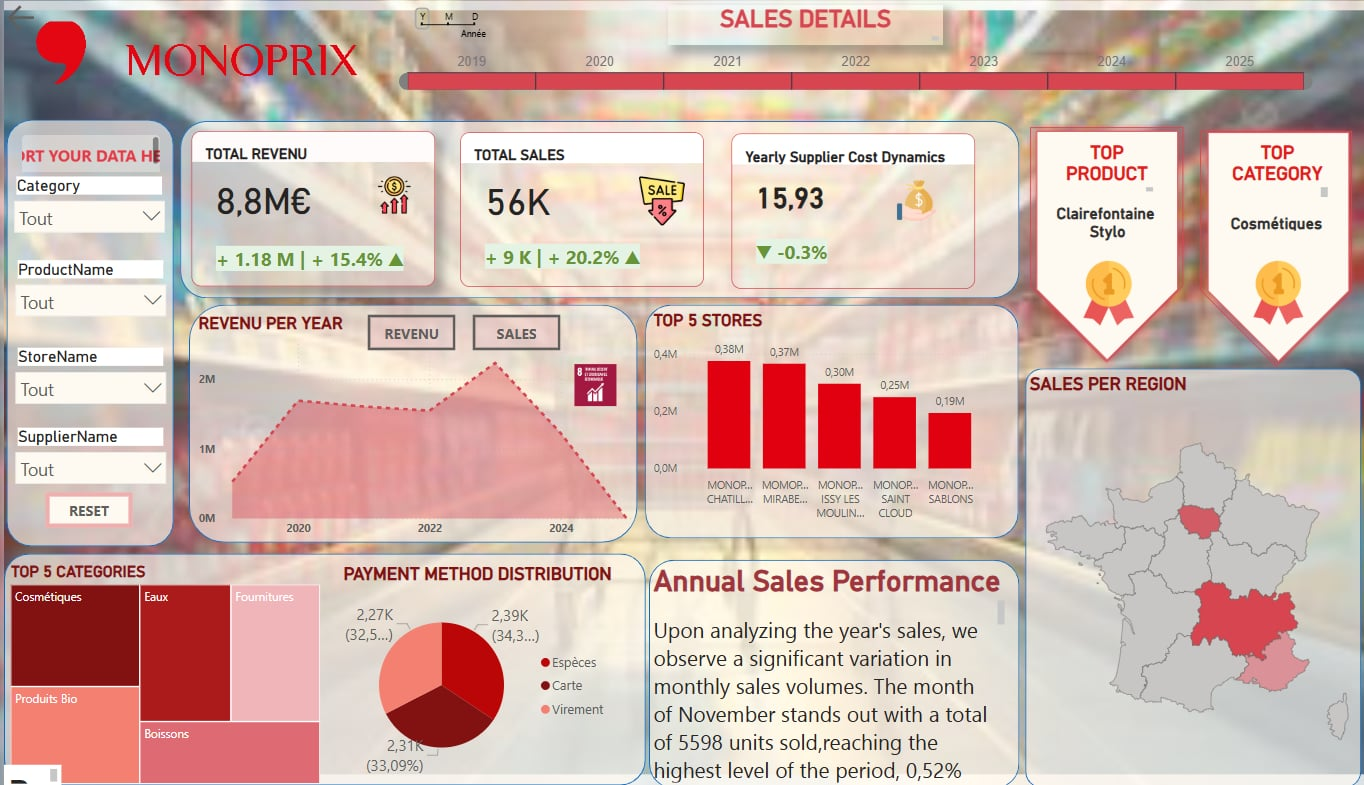

The page's visual inventory and layout, read from the dashboard file:
{"tool":"powerbi","page":{"name":"FINALCEO","canvas":[1560,900],"ordinal":1},"visuals":[{"type":"image","box":[14.8,18.1,407,80.7],"z":0},{"type":"shape","box":[3.3,135.1,191.1,487.7],"z":1000},{"type":"shape","box":[201,136.8,949,202.7],"z":2000},{"type":"shape","box":[0,631,779.3,265.3],"z":3000},{"type":"shape","box":[1166.5,420.1,383.9,479.5],"z":4000},{"type":"shape","box":[787.6,634.4,362.5,262],"z":5000},{"type":"shape","box":[210.9,347.7,512.4,271.9],"z":6000},{"type":"slicer","fields":{"Values":["Dim_Products.Category"]},"box":[1.5,195.7,192.6,123.8],"z":7000},{"type":"slicer","fields":{"Values":["Dim_Products.ProductName"]},"box":[3.1,291.9,192.6,96.3],"z":8000},{"type":"slicer","fields":{"Values":["Dim_Store.StoreName"]},"box":[3.1,391.3,192.6,94.8],"z":9000},{"type":"areaChart","title":"REVENU PER YEAR","fields":{"Y":["Sum(Dim_FactSales.Amount)"],"Category":["Dim_Dates.Annee"]},"box":[217.1,357.7,513.6,264.4],"z":10000},{"type":"pieChart","title":"PAYMENT METHOD DISTRIBUTION","fields":{"Y":["CountNonNull(Dim_FactSales.Amount)"],"Category":["Dim_PaymentMethod.PaymentMethod"]},"box":[799.1,640.9,331.2,255.4],"z":11000},{"type":"Timeline1447991079100","fields":{"Time":["Dim_Dates.Date"]},"box":[446.5,0,1056.2,115.3],"z":12000},{"type":"image","box":[1015,200.2,58.1,56.6],"z":13000},{"type":"textbox","title":"SALES DETAILS","box":[757.9,4.9,314.7,46.1],"z":15000},{"type":"shape","box":[723.3,344.4,426.7,266.9],"z":16000},{"type":"treemap","title":"TOP 5 CATEGORIES","fields":{"Group":["Dim_Products.Category"],"Values":["Sum(Dim_FactSales.Quantity)"]},"box":[51.1,636,678.8,258.7],"z":17000},{"type":"shape","box":[1160,131.8,201,294.9],"z":18000},{"type":"cardVisual","title":"TOTAL REVENU","fields":{"Data":["Dim_FactSales.chiffredaffaire"]},"box":[214,148.3,278.2,177.3],"z":19000},{"type":"cardVisual","title":"TOTAL SALES","fields":{"Data":["Sum(Dim_FactSales.Quantity)"]},"box":[521.2,149.8,278,177],"z":20000},{"type":"image","box":[420.4,195.7,52,52],"z":21000},{"type":"image","box":[713.8,195.7,74.9,65.7],"z":22000},{"type":"cardVisual","title":"Yearly Supplier Cost Dynamics","fields":{"Data":["Dim_FactSales.AveragesupplierPrice"]},"box":[831.5,151.3,278.2,177.3],"z":23000},{"type":"shape","box":[1166.5,135.1,187.8,288.3],"z":24000},{"type":"shape","box":[1354.4,135.1,199.4,294.9],"z":25000},{"type":"shape","box":[1362.6,136.8,187.8,288.3],"z":26000},{"type":"textbox","title":"TOP CATEGORY","box":[1392.3,159.8,125.2,69.2],"z":27000},{"type":"textbox","title":"TOP PRODUCT","box":[1202.8,159.8,115.3,62.6],"z":28000},{"type":"card","fields":{"Values":["Min(Dim_Products.ProductName)"]},"box":[1191.3,222.4,140.1,61],"z":29000},{"type":"card","fields":{"Values":["Min(Dim_Products.Category)"]},"box":[1379.1,240.6,151.6,26.4],"z":30000},{"type":"image","box":[1216,247.2,93.9,173],"z":31000},{"type":"image","box":[1409.3,247.6,93.2,172.7],"z":32000},{"type":"slicer","fields":{"Values":["Dim_Supplier.Name"]},"box":[3.1,483,192.6,186.5],"z":33000},{"type":"columnChart","title":"TOP 5 STORES","fields":{"Category":["Dim_Store.StoreName"],"Y":["Sum(Dim_FactSales.Amount)"]},"box":[736.5,354.2,400.4,247.2],"z":34000},{"type":"shapeMap","title":"SALES PER REGION","fields":{"Category":["Dim_Store.Personnalisé"]},"box":[1166.7,425,393.3,475],"z":35000},{"type":"actionButton","box":[47.5,561.3,100,40.7],"z":36000},{"type":"htmlContent443BE3AD55E043BF878BED274D3A6855","fields":{"content":["FactSupplierPayment.MovingFilterMessage"]},"box":[15,148.3,166.7,51.7],"z":37000},{"type":"actionButton","box":[416,358.4,100.3,40.5],"z":38000},{"type":"actionButton","box":[535.5,358.4,100.3,40.5],"z":39000},{"type":"image","box":[646.6,408.1,58.1,61.1],"z":40000},{"type":"actionButton","box":[0,0,100,40],"z":41000}]}

Visuals, with their boxes in screenshot pixels (x1, y1, x2, y2), scaled from the page's 1560x900 canvas onto the 1364x785 screenshot:
image: l=13, t=16, r=369, b=86
shape: l=3, t=118, r=170, b=543
shape: l=176, t=119, r=1006, b=296
shape: l=0, t=550, r=681, b=782
shape: l=1020, t=366, r=1356, b=784
shape: l=689, t=553, r=1006, b=782
shape: l=184, t=303, r=632, b=540
slicer - Dim_Products.Category: l=1, t=171, r=170, b=279
slicer - Dim_Products.ProductName: l=3, t=255, r=171, b=339
slicer - Dim_Store.StoreName: l=3, t=341, r=171, b=424
"REVENU PER YEAR" areaChart: l=190, t=312, r=639, b=543
"PAYMENT METHOD DISTRIBUTION" pieChart: l=699, t=559, r=988, b=782
Timeline1447991079100 - Dim_Dates.Date: l=390, t=0, r=1314, b=101
image: l=887, t=175, r=938, b=224
"SALES DETAILS" textbox: l=663, t=4, r=938, b=44
shape: l=632, t=300, r=1006, b=533
"TOP 5 CATEGORIES" treemap: l=45, t=555, r=638, b=780
shape: l=1014, t=115, r=1190, b=372
"TOTAL REVENU" cardVisual: l=187, t=129, r=430, b=284
"TOTAL SALES" cardVisual: l=456, t=131, r=699, b=285
image: l=368, t=171, r=413, b=216
image: l=624, t=171, r=690, b=228
"Yearly Supplier Cost Dynamics" cardVisual: l=727, t=132, r=970, b=287
shape: l=1020, t=118, r=1184, b=369
shape: l=1184, t=118, r=1359, b=375
shape: l=1191, t=119, r=1356, b=371
"TOP CATEGORY" textbox: l=1217, t=139, r=1327, b=200
"TOP PRODUCT" textbox: l=1052, t=139, r=1152, b=194
card - Min(Dim_Products.ProductName): l=1042, t=194, r=1164, b=247
card - Min(Dim_Products.Category): l=1206, t=210, r=1338, b=233
image: l=1063, t=216, r=1145, b=367
image: l=1232, t=216, r=1314, b=367
slicer - Dim_Supplier.Name: l=3, t=421, r=171, b=584
"TOP 5 STORES" columnChart: l=644, t=309, r=994, b=525
"SALES PER REGION" shapeMap: l=1020, t=371, r=1363, b=784
actionButton: l=42, t=490, r=129, b=525
htmlContent443BE3AD55E043BF878BED274D3A6855 - FactSupplierPayment.MovingFilterMessage: l=13, t=129, r=159, b=174
actionButton: l=364, t=313, r=451, b=348
actionButton: l=468, t=313, r=556, b=348
image: l=565, t=356, r=616, b=409
actionButton: l=0, t=0, r=87, b=35
